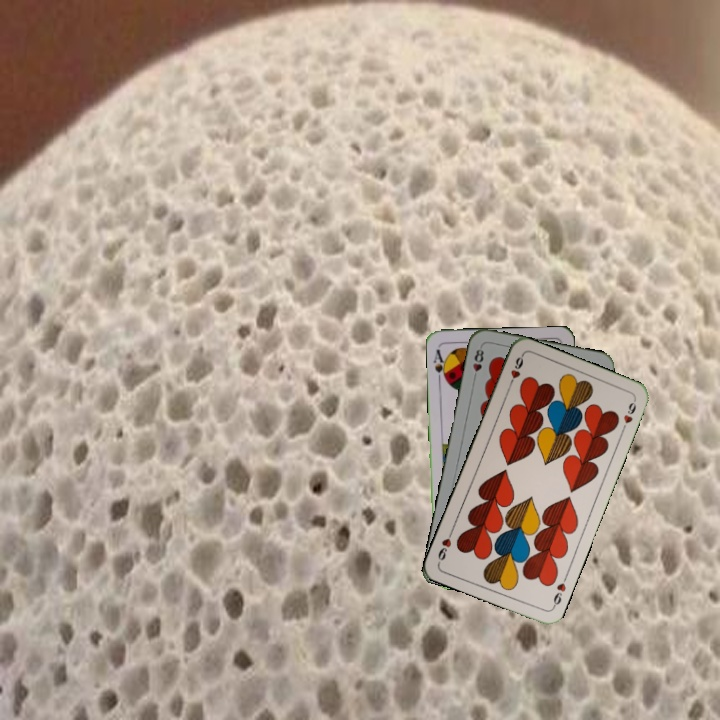H8: (469, 342, 486, 383)
H9: (504, 351, 526, 390), (549, 579, 569, 611)
SA: (430, 345, 450, 384)
